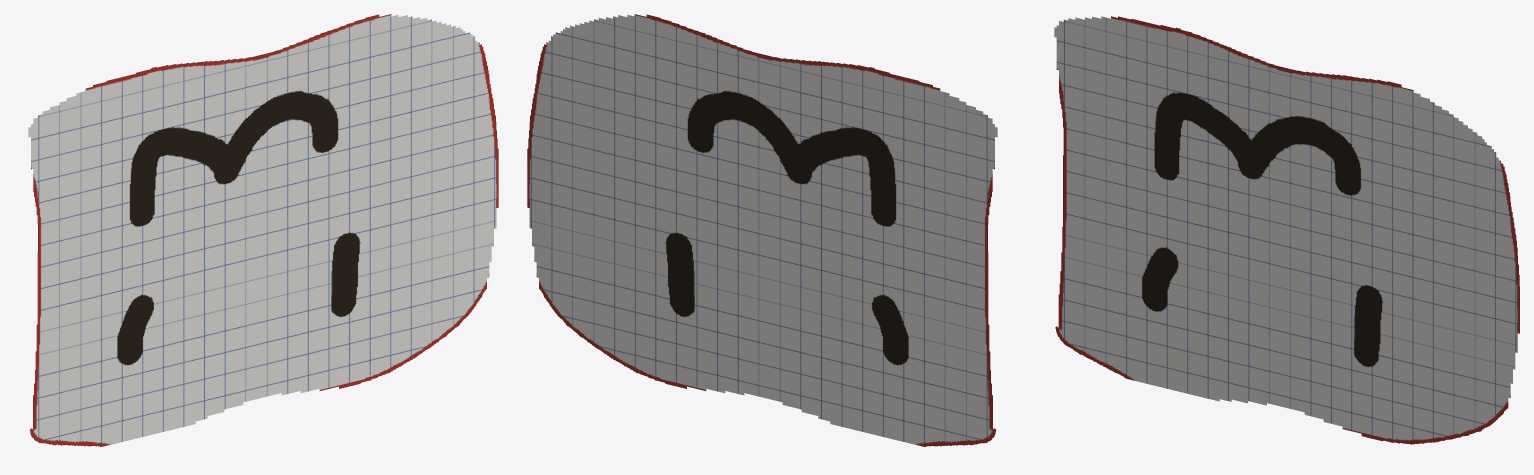
3 views of the same model, side by side, from view 1: azimuth 30°, elevation 25°; view 2: azimuth 150°, elevation 25°; view 3: azimuth 330°, elevation 25° (orthographic).
Parts seen in each view (by area): view 1: cutout; view 2: cutout; view 3: cutout.
Part boxes in pixels (x1,y1,x2,y2): cutout: (28,14,498,446); cutout: (527,14,997,446); cutout: (1054,16,1519,444).
Size of the model in its own units: 3.52 by 2.58 by 0.
1 material, 1 textured.
